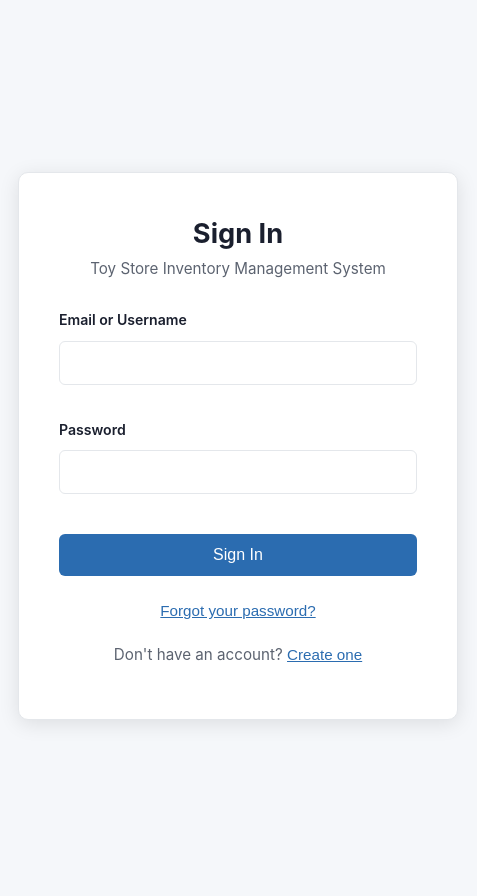
it: Login Page › shows error when username is empty on registration
Click the button "Create one": click(325, 655) [287,646,362,663]
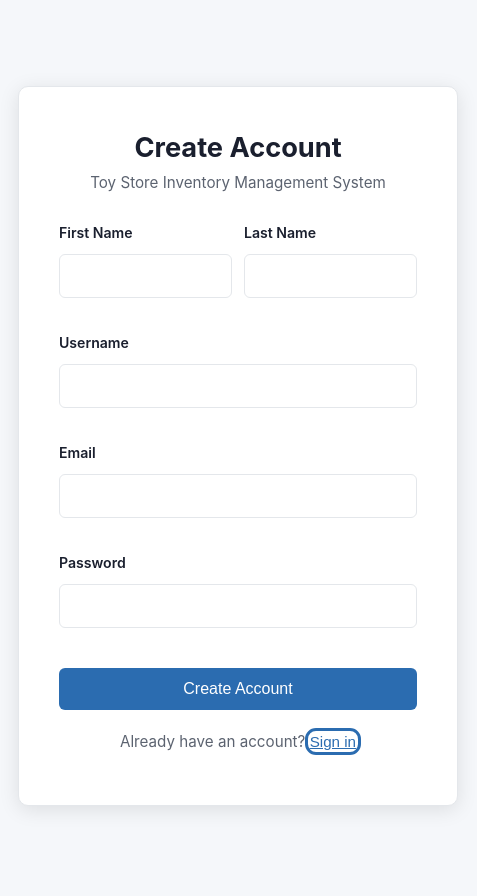
In the field labelled "First Name": (146, 276) [59,254,232,298], type "Test"
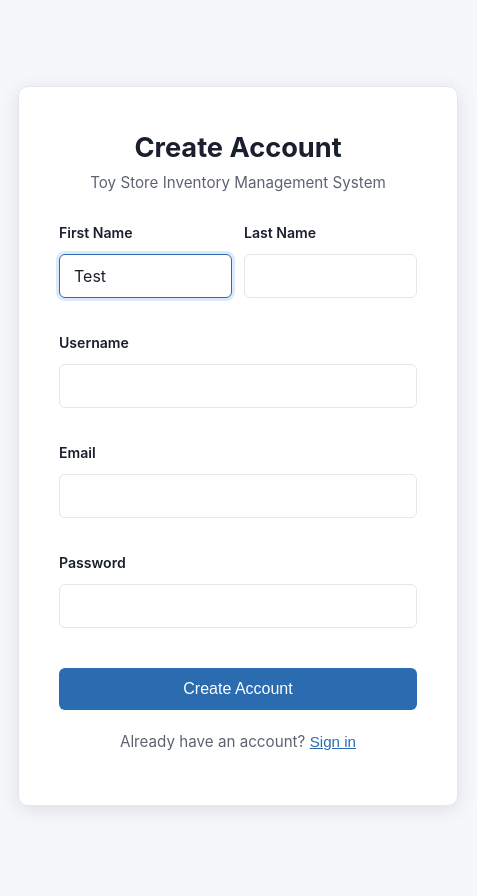
In the field labelled "Last Name": (330, 276) [244,254,417,298], type "User"
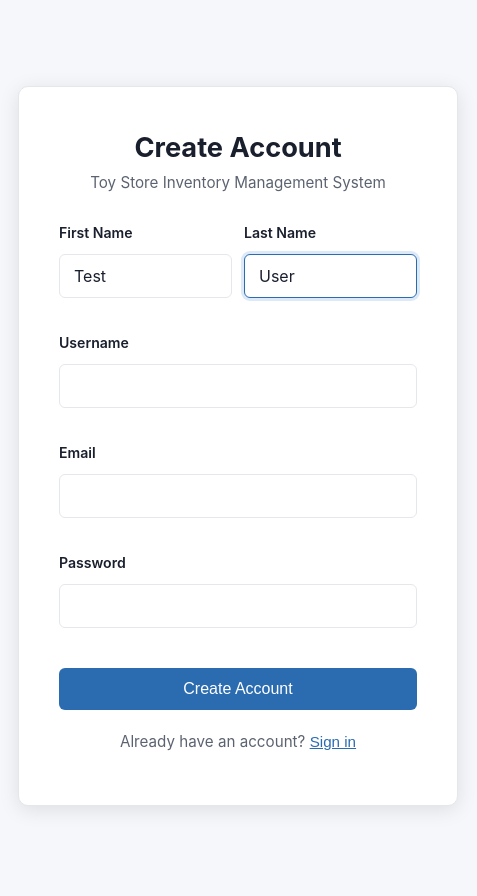
In the field labelled "Email": (238, 496) [59,474,417,518], type "test@example.com"
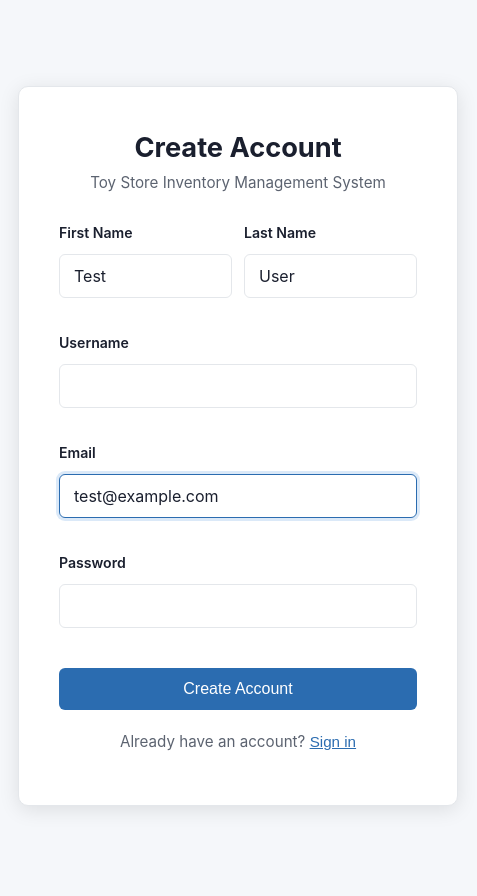
In the password field labelled "Password": (238, 606) [59,584,417,628], type "Test1234!"
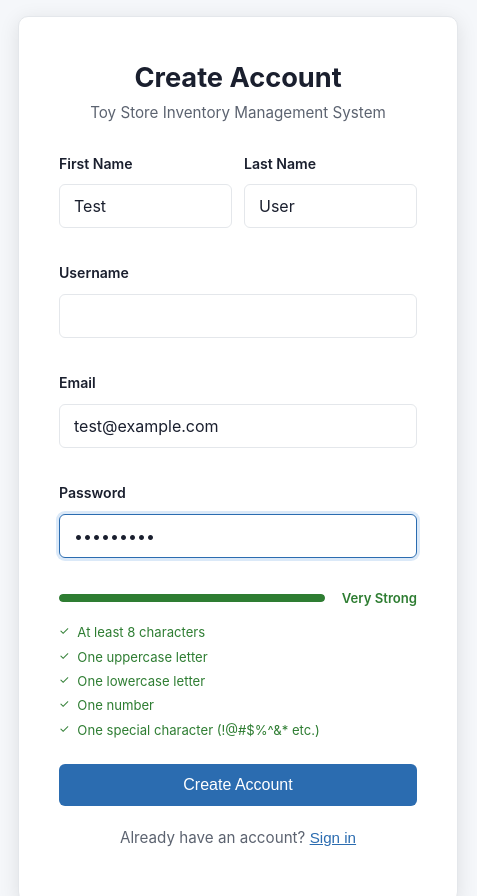
Click the button "Create Account": click(238, 785) [59,764,417,806]
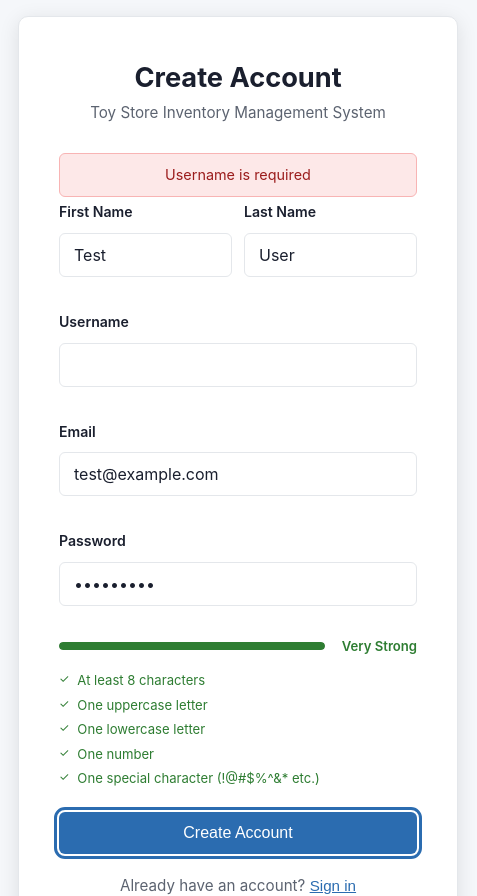
Result: the message reads "Username is required" at [165,166,311,183]
